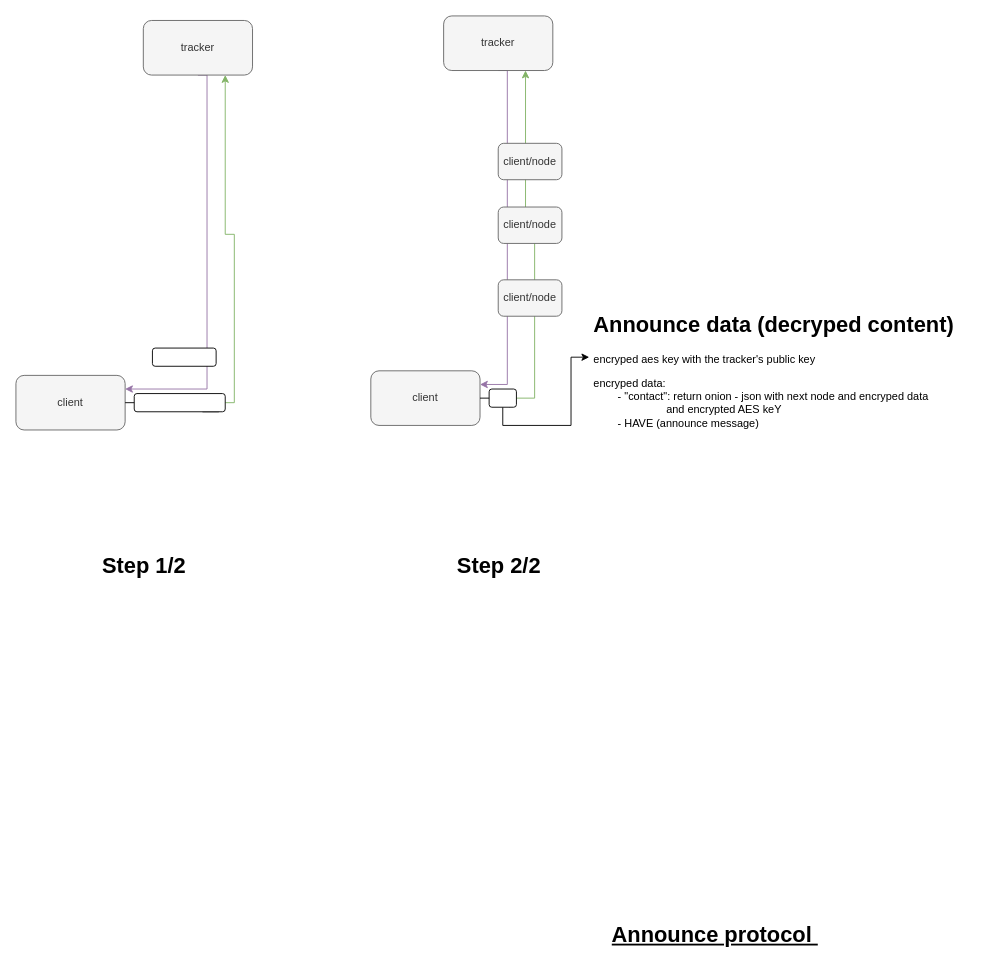
Image size: 987x978. Some labels were removed from this diagram. The centre of each missing label's shape, as x and y in pixels:
"data" belongs at point (502, 397).
"pubic key" belongs at point (184, 356).
"request public key" belongs at point (179, 402).
